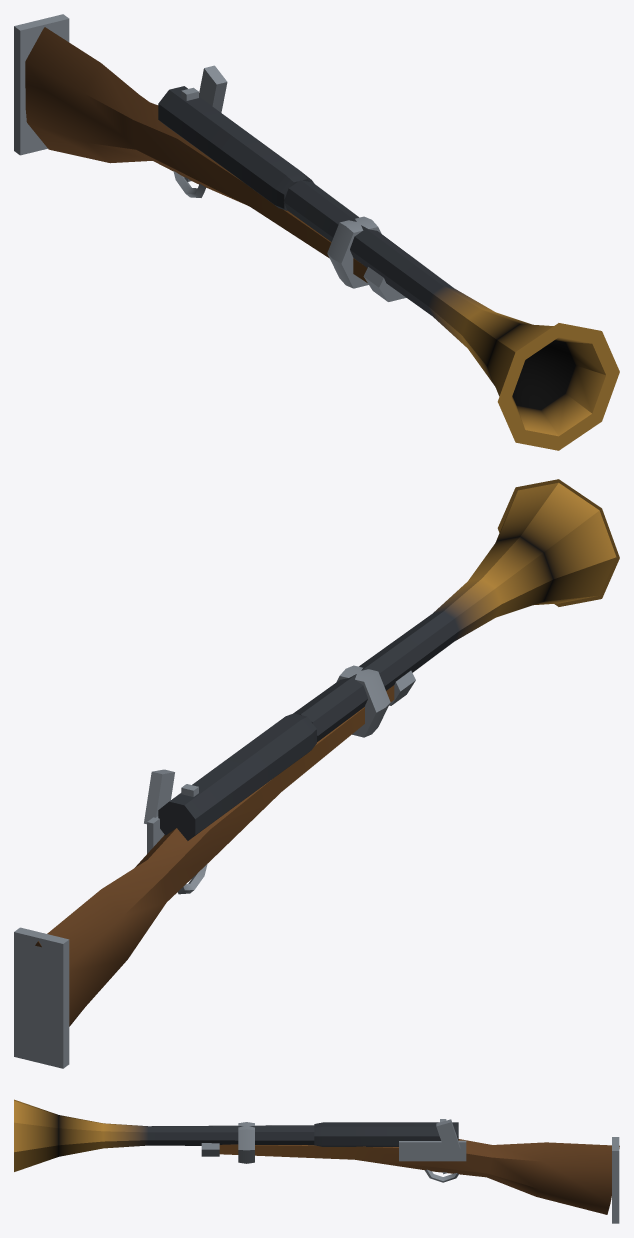
Rendered from weapon_musket_blunder_lo.glb.
The picture shows the model from 3 angles, top to bottom: view 1: azimuth 30°, elevation 25°; view 2: azimuth 150°, elevation 25°; view 3: azimuth 270°, elevation 25°; orthographic projection. The views are drawn at different scales.
Parts seen in each view (by area): view 1: weapon_musket_blunder_lo; view 2: weapon_musket_blunder_lo; view 3: weapon_musket_blunder_lo.
Part boxes in pixels (box(x1,y1,x2,y2)): weapon_musket_blunder_lo: box(14, 14, 619, 450); weapon_musket_blunder_lo: box(14, 479, 619, 1068); weapon_musket_blunder_lo: box(14, 1099, 619, 1223).
Size of the model in its own units: 0.159 by 0.252 by 1.17.
